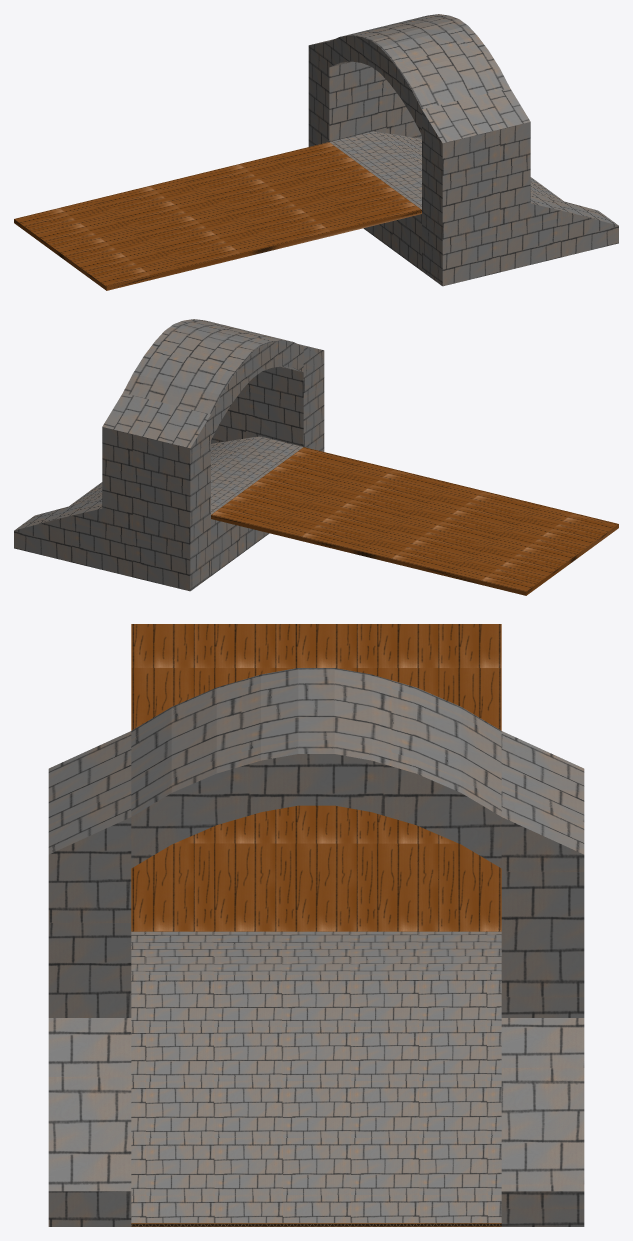
The model's file is DrawBridge.fbx.
3 views of the same model, one above another, from view 1: azimuth 30°, elevation 25°; view 2: azimuth 150°, elevation 25°; view 3: azimuth 270°, elevation 25° (orthographic). The views are drawn at different scales.
Visible parts, largest first — view 1: pCube14, pCube19, pCube21, pCube17, pCube16; view 2: pCube14, pCube17, pCube21, pCube19, pCube16; view 3: pCube16, pCube14, pCube21, pCube17, pCube19.
Boxes of the visible parts, x1,y1,x2,y2 form: pCube14: (14,142,421,290); pCube19: (422,88,618,286); pCube21: (329,14,509,134); pCube17: (308,39,421,146); pCube16: (329,131,563,270); pCube14: (211,447,618,595); pCube17: (14,393,210,591); pCube21: (123,319,303,439); pCube19: (211,344,324,451); pCube16: (69,436,303,575); pCube16: (131,931,501,1226); pCube14: (131,624,501,931); pCube21: (131,668,501,868); pCube17: (501,731,584,1226); pCube19: (48,731,131,1226).
Bounding box in the file's own units: 37.13 × 13.96 × 17.52.
